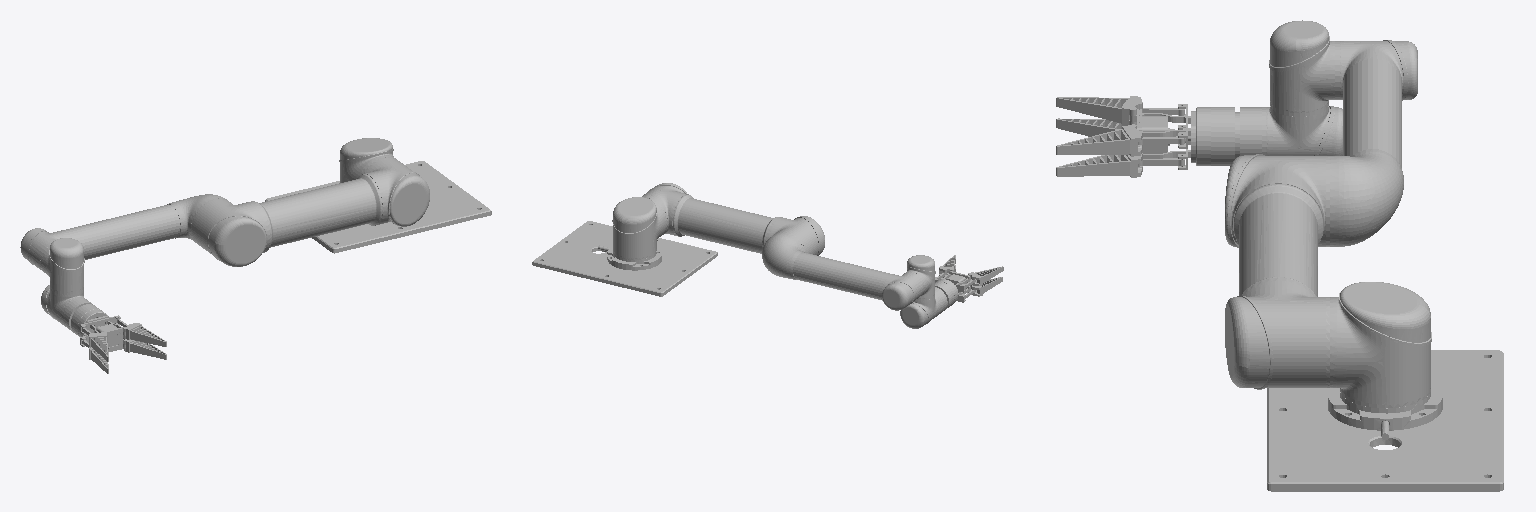
robot.urdf — ur5:
<?xml version="1.0" encoding="utf-8"?>
<!-- This URDF was automatically created by SolidWorks to URDF Exporter! Originally created by [author] ([email redacted]) 
     Commit Version: 1.6.0-4-g7f85cfe  Build Version: 1.6.7995.38578
     For more information, please see http://wiki.ros.org/sw_urdf_exporter -->
<robot
  name="ur5">
  <link
    name="base_link">
    <inertial>
      <origin
        xyz="0.0235759066632154 -4.024260750256E-07 -0.00267484602059103"
        rpy="0 0 0" />
      <mass
        value="1.7590663588329" />
      <inertia
        ixx="0.0111044047546135"
        ixy="-2.43496975298582E-06"
        ixz="3.4899177892921E-07"
        iyy="0.019324958776445"
        iyz="5.4412544869659E-08"
        izz="0.0303647859152603" />
    </inertial>
    <visual>
      <origin
        xyz="0 0 0"
        rpy="0 0 0" />
      <geometry>
        <mesh
          filename="package://ur5/meshes/base_link.STL" />
      </geometry>
      <material
        name="">
        <color
          rgba="0.752941176470588 0.752941176470588 0.752941176470588 1" />
      </material>
    </visual>
    <collision>
      <origin
        xyz="0 0 0"
        rpy="0 0 0" />
      <geometry>
        <mesh
          filename="package://ur5/meshes/base_link.STL" />
      </geometry>
    </collision>
  </link>
  <link
    name="Link1">
    <inertial>
      <origin
        xyz="-4.33139494392822E-06 -0.00186927605738119 0.00924020497630284"
        rpy="0 0 0" />
      <mass
        value="1.55602216706584" />
      <inertia
        ixx="0.0028146857132453"
        ixy="-2.04222958000101E-08"
        ixz="-3.74832962999915E-08"
        iyy="0.00301831638792784"
        iyz="-0.000413432771678958"
        izz="0.00258081118256846" />
    </inertial>
    <visual>
      <origin
        xyz="0 0 0"
        rpy="0 0 0" />
      <geometry>
        <mesh
          filename="package://ur5/meshes/Link1.STL" />
      </geometry>
      <material
        name="">
        <color
          rgba="0.752941176470588 0.752941176470588 0.752941176470588 1" />
      </material>
    </visual>
    <collision>
      <origin
        xyz="0 0 0"
        rpy="0 0 0" />
      <geometry>
        <mesh
          filename="package://ur5/meshes/Link1.STL" />
      </geometry>
    </collision>
  </link>
  <joint
    name="Joint1"
    type="continuous">
    <origin
      xyz="0 0 0.0892"
      rpy="1.5708 0 0" />
    <parent
      link="base_link" />
    <child
      link="Link1" />
    <axis
      xyz="0 1 0" />
    <limit
      lower="-3.14"
      upper="3.14"
      effort="1000"
      velocity="1000" />
  </joint>
  <link
    name="Link2">
    <inertial>
      <origin
        xyz="-0.212499982180631 1.76727700529344E-09 0.134621416221834"
        rpy="0 0 0" />
      <mass
        value="5.39337122866027" />
      <inertia
        ixx="0.00808994025531996"
        ixy="-7.71587058034231E-08"
        ixz="5.77898419873088E-10"
        iyy="0.0229057488132269"
        iyz="-3.96344123140802E-10"
        izz="0.0233130078218392" />
    </inertial>
    <visual>
      <origin
        xyz="0 0 0"
        rpy="0 0 0" />
      <geometry>
        <mesh
          filename="package://ur5/meshes/Link2.STL" />
      </geometry>
      <material
        name="">
        <color
          rgba="0.752941176470588 0.752941176470588 0.752941176470588 1" />
      </material>
    </visual>
    <collision>
      <origin
        xyz="0 0 0"
        rpy="0 0 0" />
      <geometry>
        <mesh
          filename="package://ur5/meshes/Link2.STL" />
      </geometry>
    </collision>
  </link>
  <joint
    name="Joint2"
    type="continuous">
    <origin
      xyz="0 0 0"
      rpy="0 0 0" />
    <parent
      link="Link1" />
    <child
      link="Link2" />
    <axis
      xyz="0 0 1" />
    <limit
      lower="-3.14"
      upper="3.14"
      effort="1000"
      velocity="1000" />
  </joint>
  <link
    name="Link3">
    <inertial>
      <origin
        xyz="-0.184404791090397 -5.75500430366471E-07 0.00441010722354379"
        rpy="0 0 0" />
      <mass
        value="2.51896704557572" />
      <inertia
        ixx="0.00217649268314962"
        ixy="3.15920384836248E-08"
        ixz="-0.000151962208976148"
        iyy="0.00958565883046658"
        iyz="2.70874067564241E-08"
        izz="0.00967973060442219" />
    </inertial>
    <visual>
      <origin
        xyz="0 0 0"
        rpy="0 0 0" />
      <geometry>
        <mesh
          filename="package://ur5/meshes/Link3.STL" />
      </geometry>
      <material
        name="">
        <color
          rgba="0.752941176470588 0.752941176470588 0.752941176470588 1" />
      </material>
    </visual>
    <collision>
      <origin
        xyz="0 0 0"
        rpy="0 0 0" />
      <geometry>
        <mesh
          filename="package://ur5/meshes/Link3.STL" />
      </geometry>
    </collision>
  </link>
  <joint
    name="Joint3"
    type="continuous">
    <origin
      xyz="-0.425000000000001 0 0.0159999999999997"
      rpy="0 0 0" />
    <parent
      link="Link2" />
    <child
      link="Link3" />
    <axis
      xyz="0 0 -1" />
    <limit
      lower="-3.14"
      upper="3.14"
      effort="1000"
      velocity="1000" />
  </joint>
  <link
    name="Link4">
    <inertial>
      <origin
        xyz="1.47659840743497E-06 -0.0045599294197019 -0.00356635134023785"
        rpy="0 0 0" />
      <mass
        value="0.516673373591943" />
      <inertia
        ixx="0.000402129033003172"
        ixy="1.5427603534118E-09"
        ixz="7.23887278008737E-09"
        iyy="0.000372758812319602"
        iyz="-5.68882815507802E-05"
        izz="0.000409988353950142" />
    </inertial>
    <visual>
      <origin
        xyz="0 0 0"
        rpy="0 0 0" />
      <geometry>
        <mesh
          filename="package://ur5/meshes/Link4.STL" />
      </geometry>
      <material
        name="">
        <color
          rgba="0.752941176470588 0.752941176470588 0.752941176470588 1" />
      </material>
    </visual>
    <collision>
      <origin
        xyz="0 0 0"
        rpy="0 0 0" />
      <geometry>
        <mesh
          filename="package://ur5/meshes/Link4.STL" />
      </geometry>
    </collision>
  </link>
  <joint
    name="Joint4"
    type="continuous">
    <origin
      xyz="-0.392429999999999 0 0.0929999999999997"
      rpy="1.5707963267949 0 0" />
    <parent
      link="Link3" />
    <child
      link="Link4" />
    <axis
      xyz="0 1 0" />
    <limit
      lower="-3.14"
      upper="3.14"
      effort="1000"
      velocity="1000" />
  </joint>
  <link
    name="Link5">
    <inertial>
      <origin
        xyz="-1.47659840832315E-06 0.00455992941970204 -0.00356635134023789"
        rpy="0 0 0" />
      <mass
        value="0.516673373591946" />
      <inertia
        ixx="0.000402129080759367"
        ixy="1.54610002746828E-09"
        ixz="-7.23354782817657E-09"
        iyy="0.000372758849638208"
        iyz="5.68882591960725E-05"
        izz="0.000409988374505139" />
    </inertial>
    <visual>
      <origin
        xyz="0 0 0"
        rpy="0 0 0" />
      <geometry>
        <mesh
          filename="package://ur5/meshes/Link5.STL" />
      </geometry>
      <material
        name="">
        <color
          rgba="0.752941176470588 0.752941176470588 0.752941176470588 1" />
      </material>
    </visual>
    <collision>
      <origin
        xyz="0 0 0"
        rpy="0 0 0" />
      <geometry>
        <mesh
          filename="package://ur5/meshes/Link5.STL" />
      </geometry>
    </collision>
  </link>
  <joint
    name="Joint5"
    type="continuous">
    <origin
      xyz="0 0 0.0930000000000001"
      rpy="-1.5707963267949 0 0" />
    <parent
      link="Link4" />
    <child
      link="Link5" />
    <axis
      xyz="0 1 0" />
    <limit
      lower="-3.14"
      upper="3.14"
      effort="1000"
      velocity="1000" />
  </joint>
  <link
    name="Link6">
    <inertial>
      <origin
        xyz="2.60811271168837E-05 -4.07713123062102E-05 0.00134956082673351"
        rpy="0 0 0" />
      <mass
        value="0.574397760086786" />
      <inertia
        ixx="0.000269803894778329"
        ixy="-7.00926865492166E-08"
        ixz="6.17721994428448E-07"
        iyy="0.000296833277877122"
        iyz="-4.20222681335834E-08"
        izz="0.000321580918794378" />
    </inertial>
    <visual>
      <origin
        xyz="0 0 0"
        rpy="0 0 0" />
      <geometry>
        <mesh
          filename="package://ur5/meshes/Link6.STL" />
      </geometry>
      <material
        name="">
        <color
          rgba="0.752941176470588 0.752941176470588 0.752941176470588 1" />
      </material>
    </visual>
    <collision>
      <origin
        xyz="0 0 0"
        rpy="0 0 0" />
      <geometry>
        <mesh
          filename="package://ur5/meshes/Link6.STL" />
      </geometry>
    </collision>
  </link>
  <joint
    name="Joint6"
    type="continuous">
    <origin
      xyz="0 0 0.1315"
      rpy="0 0 0" />
    <parent
      link="Link5" />
    <child
      link="Link6" />
    <axis
      xyz="0 0 1" />
    <limit
      lower="-3.14"
      upper="3.14"
      effort="1000"
      velocity="1000" />
  </joint>
</robot>

--- What the picture shows (computed from the rendered views, not written in the file) ---
3 views of the same robot in one strip: view 1: azimuth 30°, elevation 25°; view 2: azimuth 150°, elevation 25°; view 3: azimuth 270°, elevation 25° (orthographic).
Robot: ur5 — 7 links, 6 joints (6 continuous); root link base_link; default pose: all joints at 0.
Links seen in each view (by area): view 1: Link2, Link3, base_link, Link6, Link4, Link1, Link5; view 2: base_link, Link2, Link3, Link1, Link6, Link5, Link4; view 3: base_link, Link2, Link3, Link6, Link1, Link4, Link5.
Link boxes in pixels (x1=…): Link2: x1=191, y1=157, x2=429, y2=266; Link3: x1=20, y1=194, x2=227, y2=272; base_link: x1=265, y1=161, x2=491, y2=253; Link6: x1=63, y1=298, x2=166, y2=373; Link4: x1=41, y1=238, x2=84, y2=294; Link1: x1=339, y1=138, x2=395, y2=182; Link5: x1=41, y1=285, x2=86, y2=326; base_link: x1=532, y1=221, x2=717, y2=296; Link2: x1=642, y1=183, x2=824, y2=255; Link3: x1=762, y1=232, x2=924, y2=310; Link1: x1=612, y1=197, x2=666, y2=259; Link6: x1=935, y1=255, x2=1003, y2=313; Link5: x1=900, y1=293, x2=941, y2=328; Link4: x1=907, y1=255, x2=935, y2=300; base_link: x1=1267, y1=350, x2=1503, y2=491; Link2: x1=1225, y1=154, x2=1329, y2=389; Link3: x1=1330, y1=40, x2=1417, y2=246; Link6: x1=1056, y1=96, x2=1261, y2=177; Link1: x1=1330, y1=282, x2=1431, y2=408; Link4: x1=1269, y1=20, x2=1334, y2=116; Link5: x1=1262, y1=106, x2=1342, y2=155.
Bounding box of the posed robot: 1.12 × 0.5676 × 0.2046 m (x, y, z).
Meshes: 7 distinct files referenced, 7 mesh visuals loaded (7 binary STL).